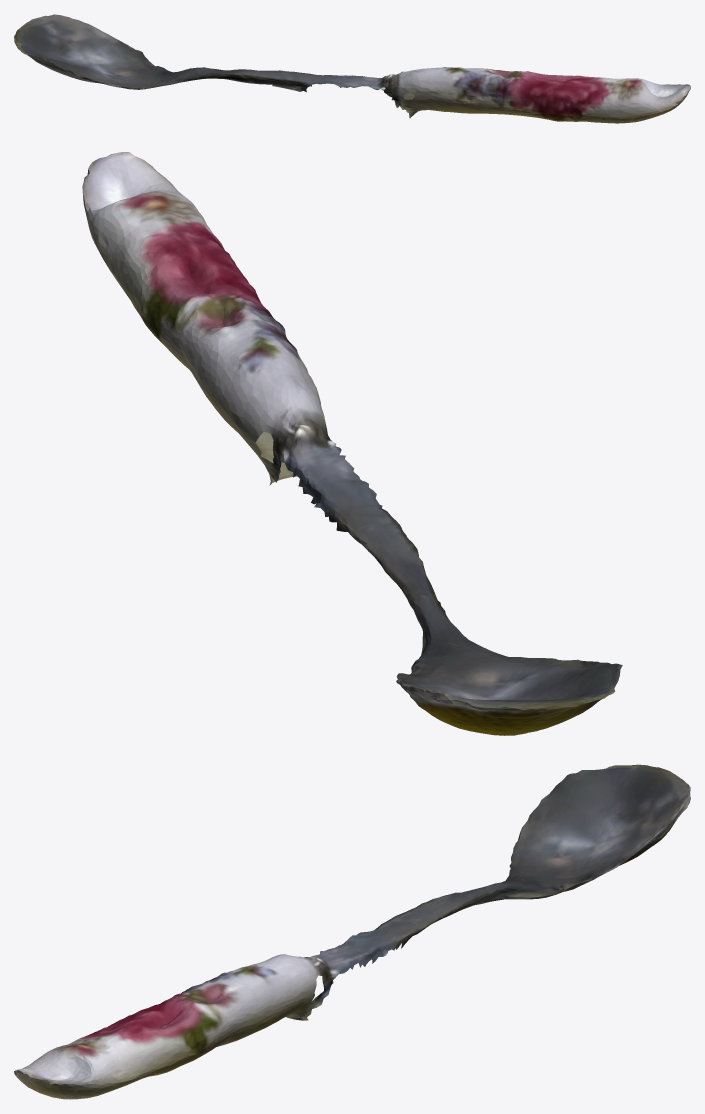
The model's file is mesh_scaled.obj.
The picture shows the model from 3 angles, top to bottom: view 1: azimuth 30°, elevation 25°; view 2: azimuth 150°, elevation 25°; view 3: azimuth 270°, elevation 25°; orthographic projection. The views are drawn at different scales.
Parts seen in each view (by area): view 1: 21_6_2024; view 2: 21_6_2024; view 3: 21_6_2024.
Part boxes in pixels (<box>): 21_6_2024: <box>14,14,690,123</box>; 21_6_2024: <box>82,152,622,735</box>; 21_6_2024: <box>14,764,690,1099</box>.
Size of the model in its own units: 0.1204 by 0.0123 by 0.1082.
Materials: 1 (1 with a texture image).
